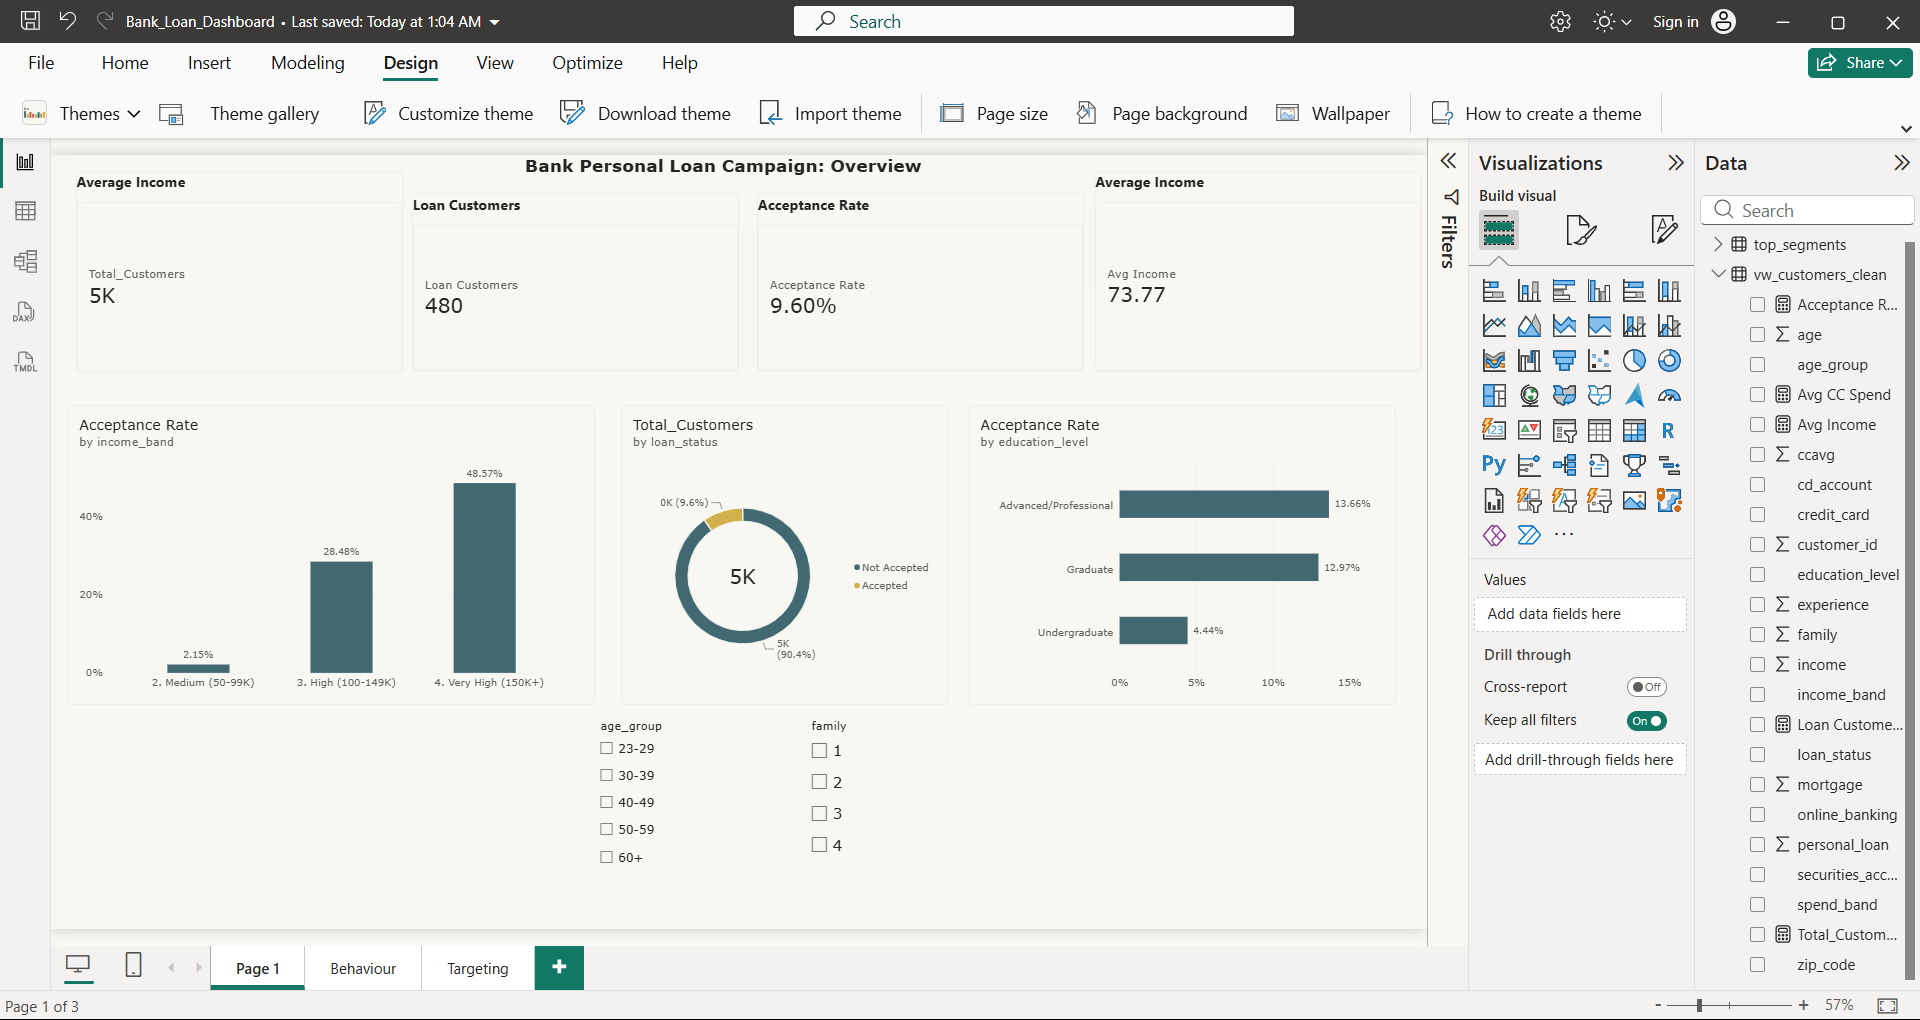

What the dashboard file says about the page in this screenshot:
{"tool":"powerbi","page":{"name":"Page 1","canvas":[1920,1080],"ordinal":0},"visuals":[{"type":"cardVisual","title":"Loan Customers","fields":{"Data":["vw_customers_clean.Loan Customers"]},"box":[504,54,456,248],"z":0},{"type":"cardVisual","title":"Total Customers","fields":{"Data":["vw_customers_clean.Total_Customers"]},"box":[22,22,456,280],"z":1000},{"type":"cardVisual","title":"Acceptance Rate","fields":{"Data":["vw_customers_clean.Acceptance Rate"]},"box":[986,54,456,248],"z":2000},{"type":"cardVisual","title":"Average Income","fields":{"Data":["vw_customers_clean.Avg Income"]},"box":[1456,22,456,280],"z":3000},{"type":"donutChart","fields":{"Category":["vw_customers_clean.loan_status"],"Y":["vw_customers_clean.Total_Customers"]},"box":[796,348,456,418],"z":4000},{"type":"clusteredColumnChart","fields":{"Category":["vw_customers_clean.income_band"],"Y":["vw_customers_clean.Acceptance Rate"]},"box":[22,348,736,418],"z":5000},{"type":"clusteredBarChart","fields":{"Category":["vw_customers_clean.education_level"],"Y":["vw_customers_clean.Acceptance Rate"]},"box":[1280,348,596,418],"z":6000},{"type":"slicer","fields":{"Values":["vw_customers_clean.age_group"]},"box":[758,786,266,232],"z":7000},{"type":"slicer","fields":{"Values":["vw_customers_clean.family"]},"box":[1054,786,254,230],"z":8000},{"type":"textbox","box":[626,0,624,38],"z":9000}]}

Visuals, with their boxes on the page's 1920x1080 design canvas (x1, y1, x2, y2). These are canvas units, not pixel positions in the 1920x1020 screenshot, which may show the page scaled, cropped or inside an application window:
"Loan Customers" cardVisual: BBox(504, 54, 960, 302)
"Total Customers" cardVisual: BBox(22, 22, 478, 302)
"Acceptance Rate" cardVisual: BBox(986, 54, 1442, 302)
"Average Income" cardVisual: BBox(1456, 22, 1912, 302)
donutChart - vw_customers_clean.loan_status x vw_customers_clean.Total_Customers: BBox(796, 348, 1252, 766)
clusteredColumnChart - vw_customers_clean.income_band x vw_customers_clean.Acceptance Rate: BBox(22, 348, 758, 766)
clusteredBarChart - vw_customers_clean.education_level x vw_customers_clean.Acceptance Rate: BBox(1280, 348, 1876, 766)
slicer - vw_customers_clean.age_group: BBox(758, 786, 1024, 1018)
slicer - vw_customers_clean.family: BBox(1054, 786, 1308, 1016)
textbox: BBox(626, 0, 1250, 38)
